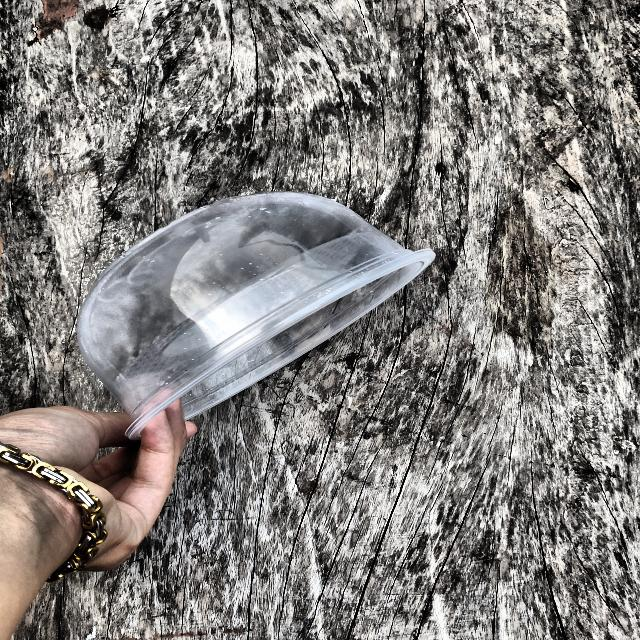plastic container: (49, 168, 442, 459)
